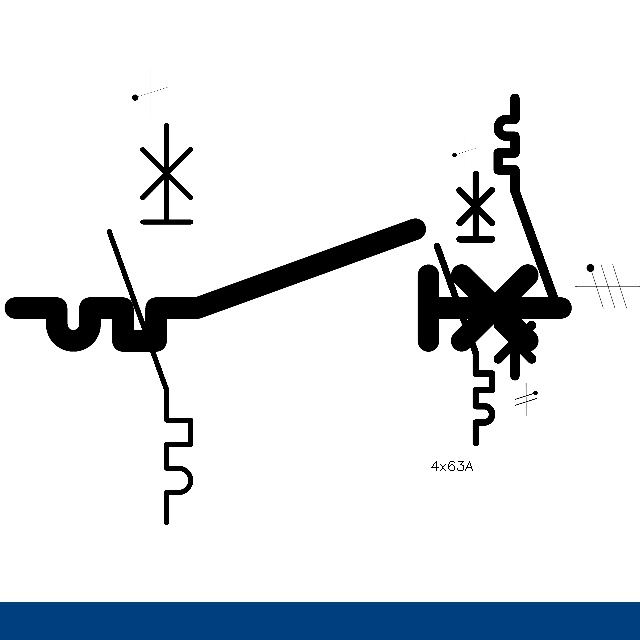interruptor_termomagnetico: (1, 215, 575, 355), (99, 115, 201, 533), (491, 91, 562, 383), (430, 167, 499, 450)
